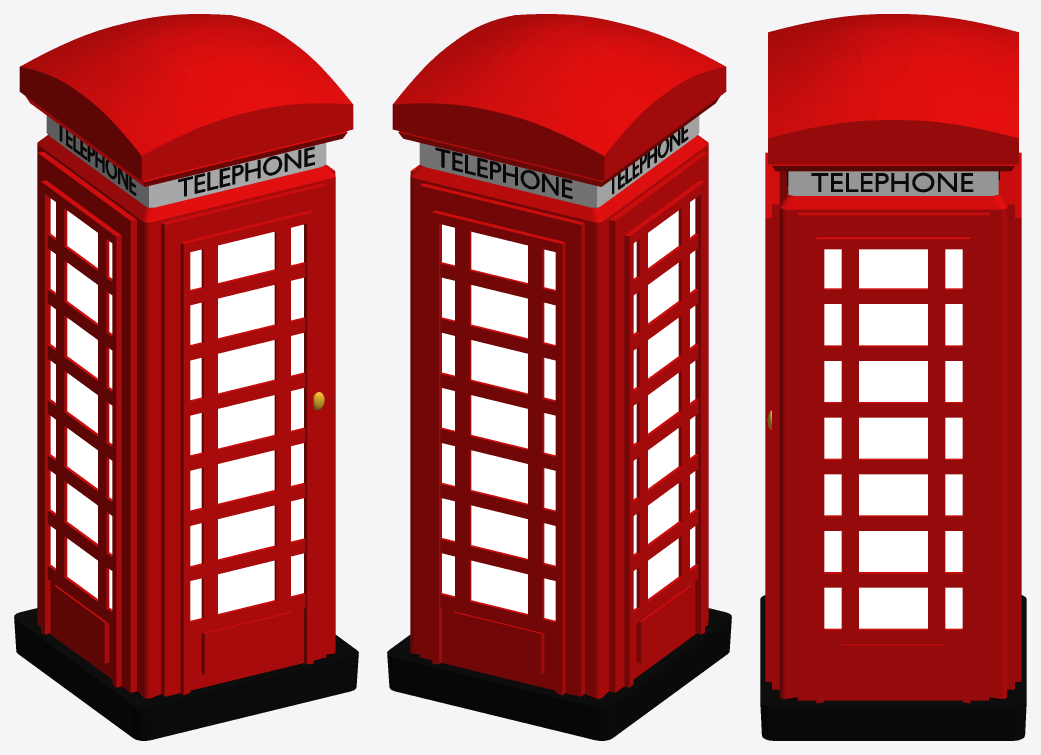
The model's file is london_telephone.glb.
3 views of the same model, side by side, from view 1: azimuth 30°, elevation 25°; view 2: azimuth 150°, elevation 25°; view 3: azimuth 270°, elevation 25° (orthographic). The views are drawn at different scales.
Visible parts, largest first — view 1: both_8, Text.007_7, Text.006_6; view 2: both_8, Text.004_4, Text.006_6; view 3: both_8, Text.005_5.
Boxes of the visible parts, box(x1,y1,x2,y2) form: both_8: box(14, 14, 358, 740); Text.007_7: box(178, 146, 314, 196); Text.006_6: box(59, 125, 136, 195); both_8: box(387, 14, 731, 740); Text.004_4: box(435, 147, 572, 198); Text.006_6: box(612, 127, 688, 194); both_8: box(760, 14, 1026, 740); Text.005_5: box(811, 172, 973, 192).
Size of the model in its own units: 1.17 by 3.13 by 1.17.
